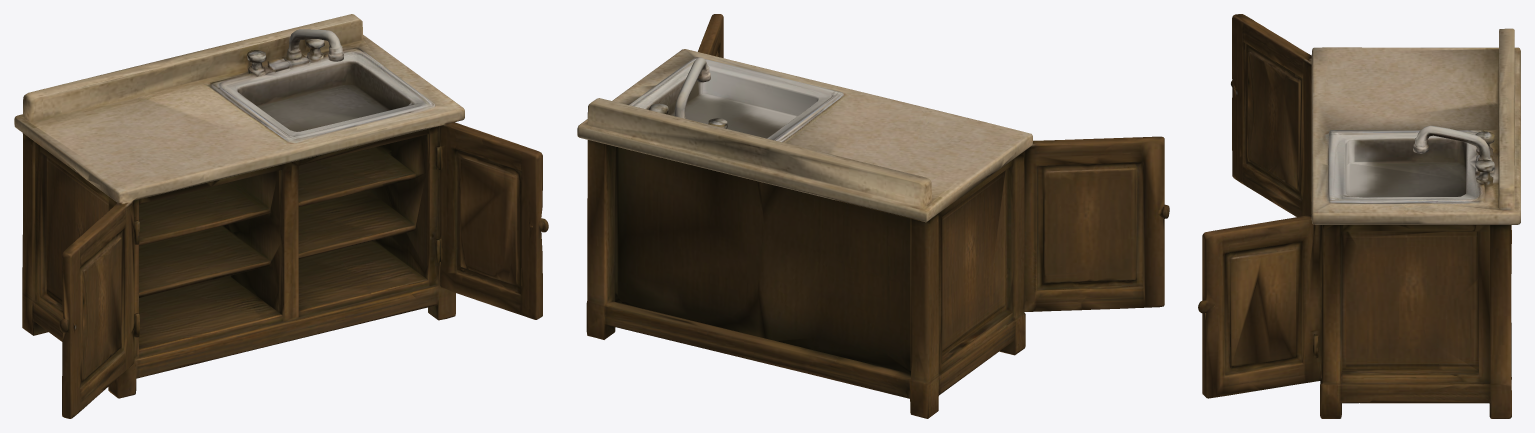
Rendered from FregaderoAbierto.glb.
3 renders of one model, left to right at view 1: azimuth 30°, elevation 25°; view 2: azimuth 150°, elevation 25°; view 3: azimuth 270°, elevation 25°, orthographic. The views are drawn at different scales.
Visible parts, largest first — view 1: node_0; view 2: node_0; view 3: node_0.
Boxes of the visible parts, x1,y1,x2,y2 form: node_0: [14, 14, 548, 418]; node_0: [577, 14, 1169, 418]; node_0: [1198, 14, 1520, 418].
Bounding box in the file's own units: 0.992 × 0.5309 × 0.5987.
1 material, 1 textured.
